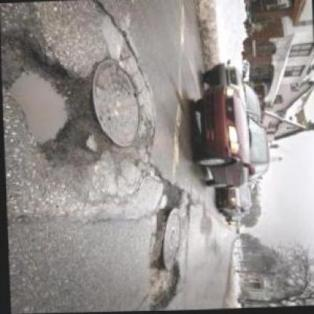Hueco: (0, 23, 106, 170), (140, 262, 182, 311), (151, 176, 187, 213)
